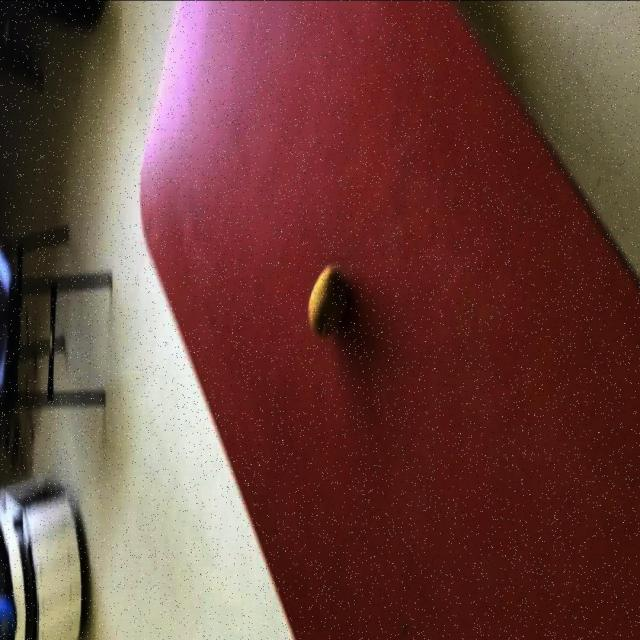Kiwi: (307, 262, 348, 336)
